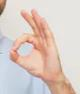left: (8, 8, 62, 76)
